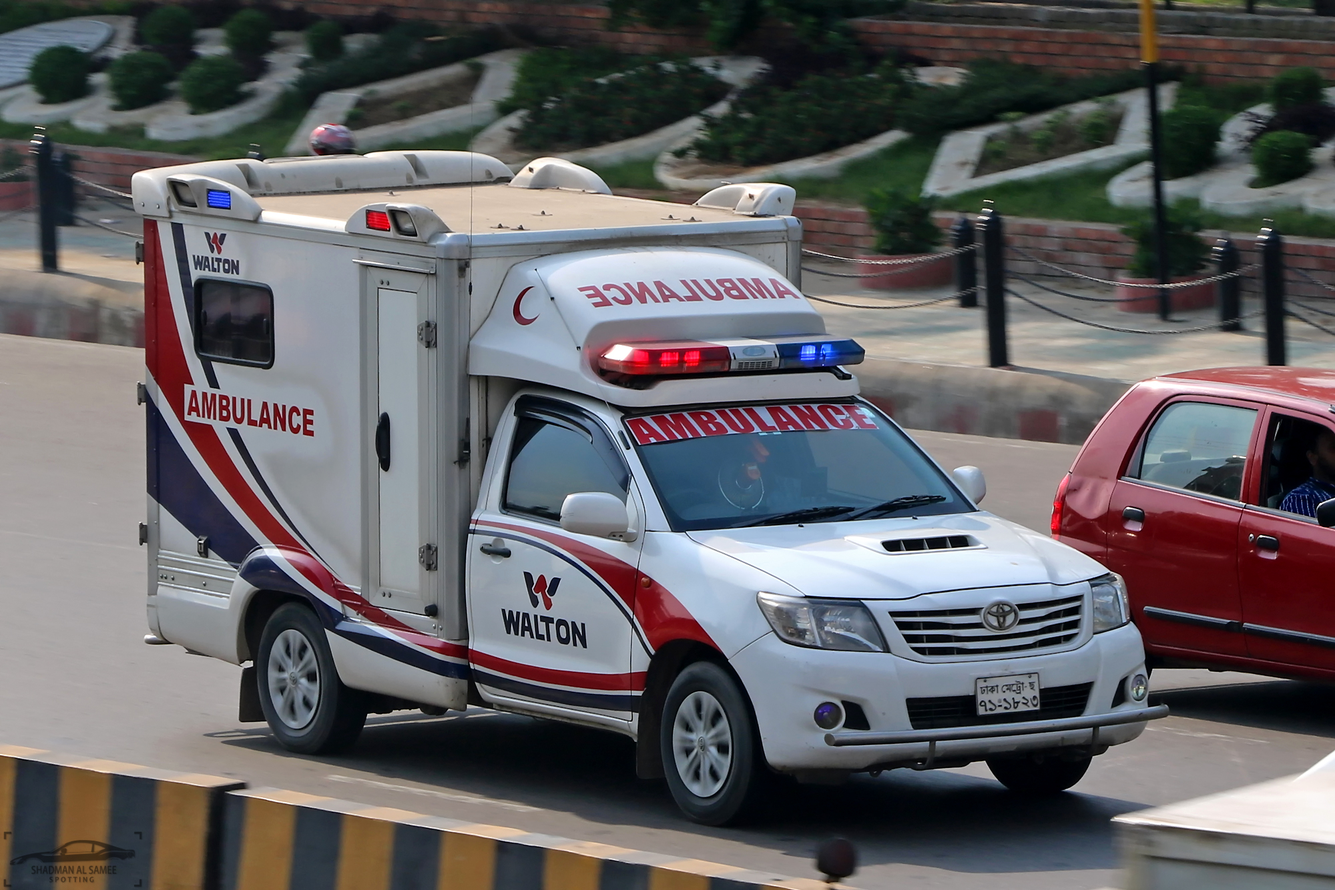Ambulance: (109, 134, 1170, 812)
private car: (1066, 337, 1335, 672)
